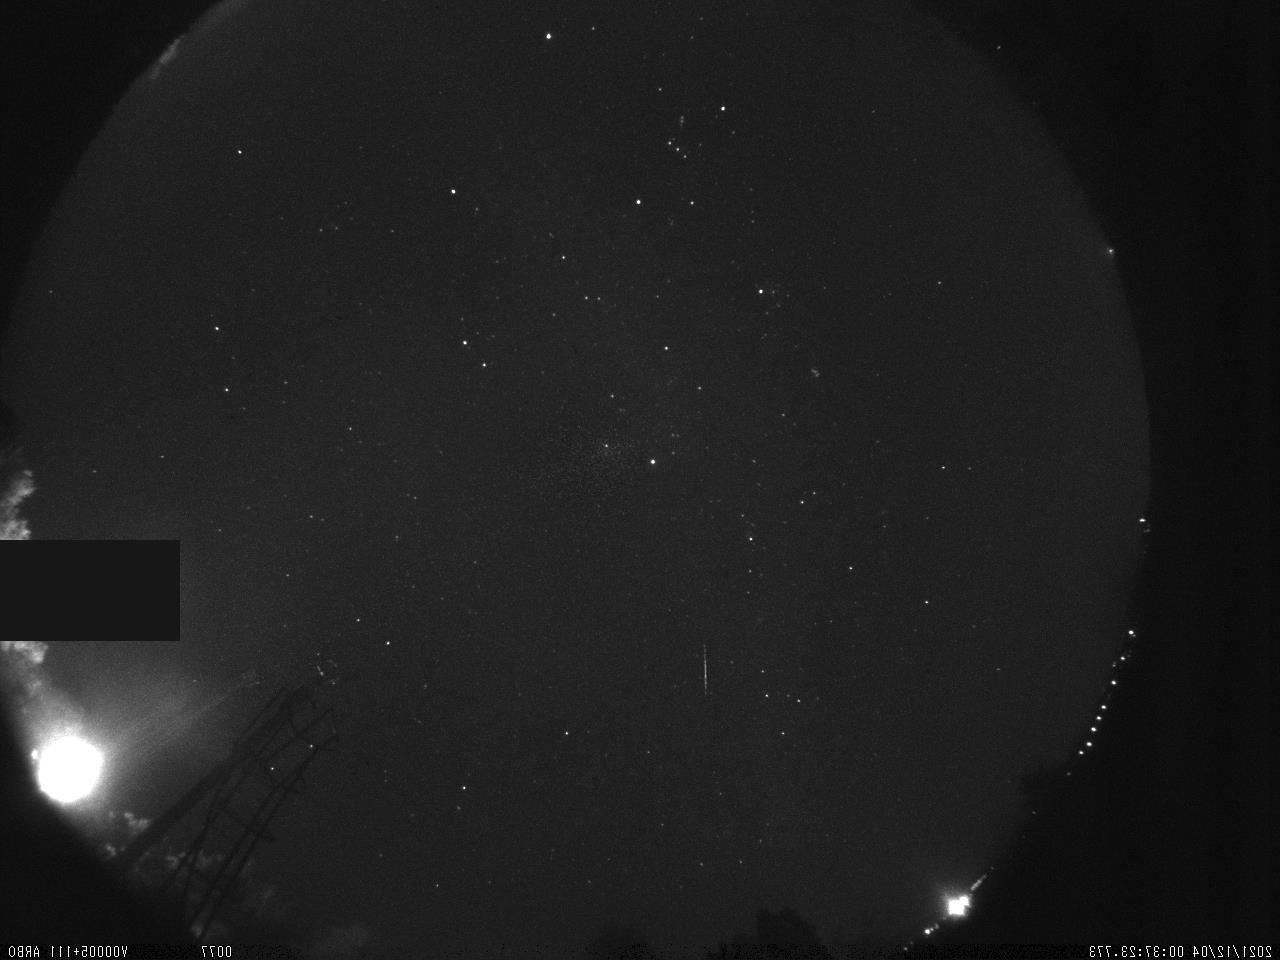meteor: (693, 630, 712, 705)
